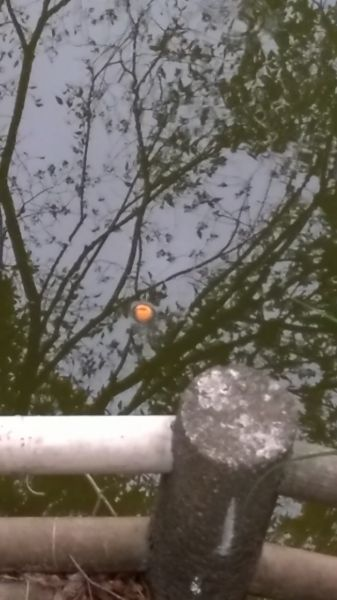eggs: (131, 300, 160, 324)
